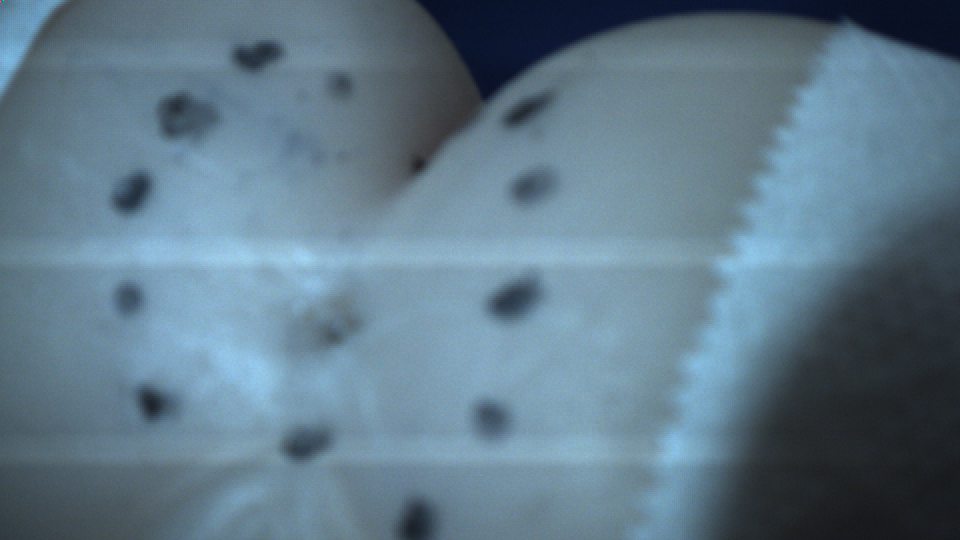asarp_marker: (99, 164, 162, 219), (151, 87, 221, 136), (477, 268, 543, 315), (230, 28, 288, 71), (275, 423, 334, 463), (391, 498, 444, 540), (469, 395, 512, 443), (506, 165, 557, 203), (503, 93, 564, 124), (134, 382, 175, 426), (107, 280, 149, 318), (323, 68, 358, 101)
